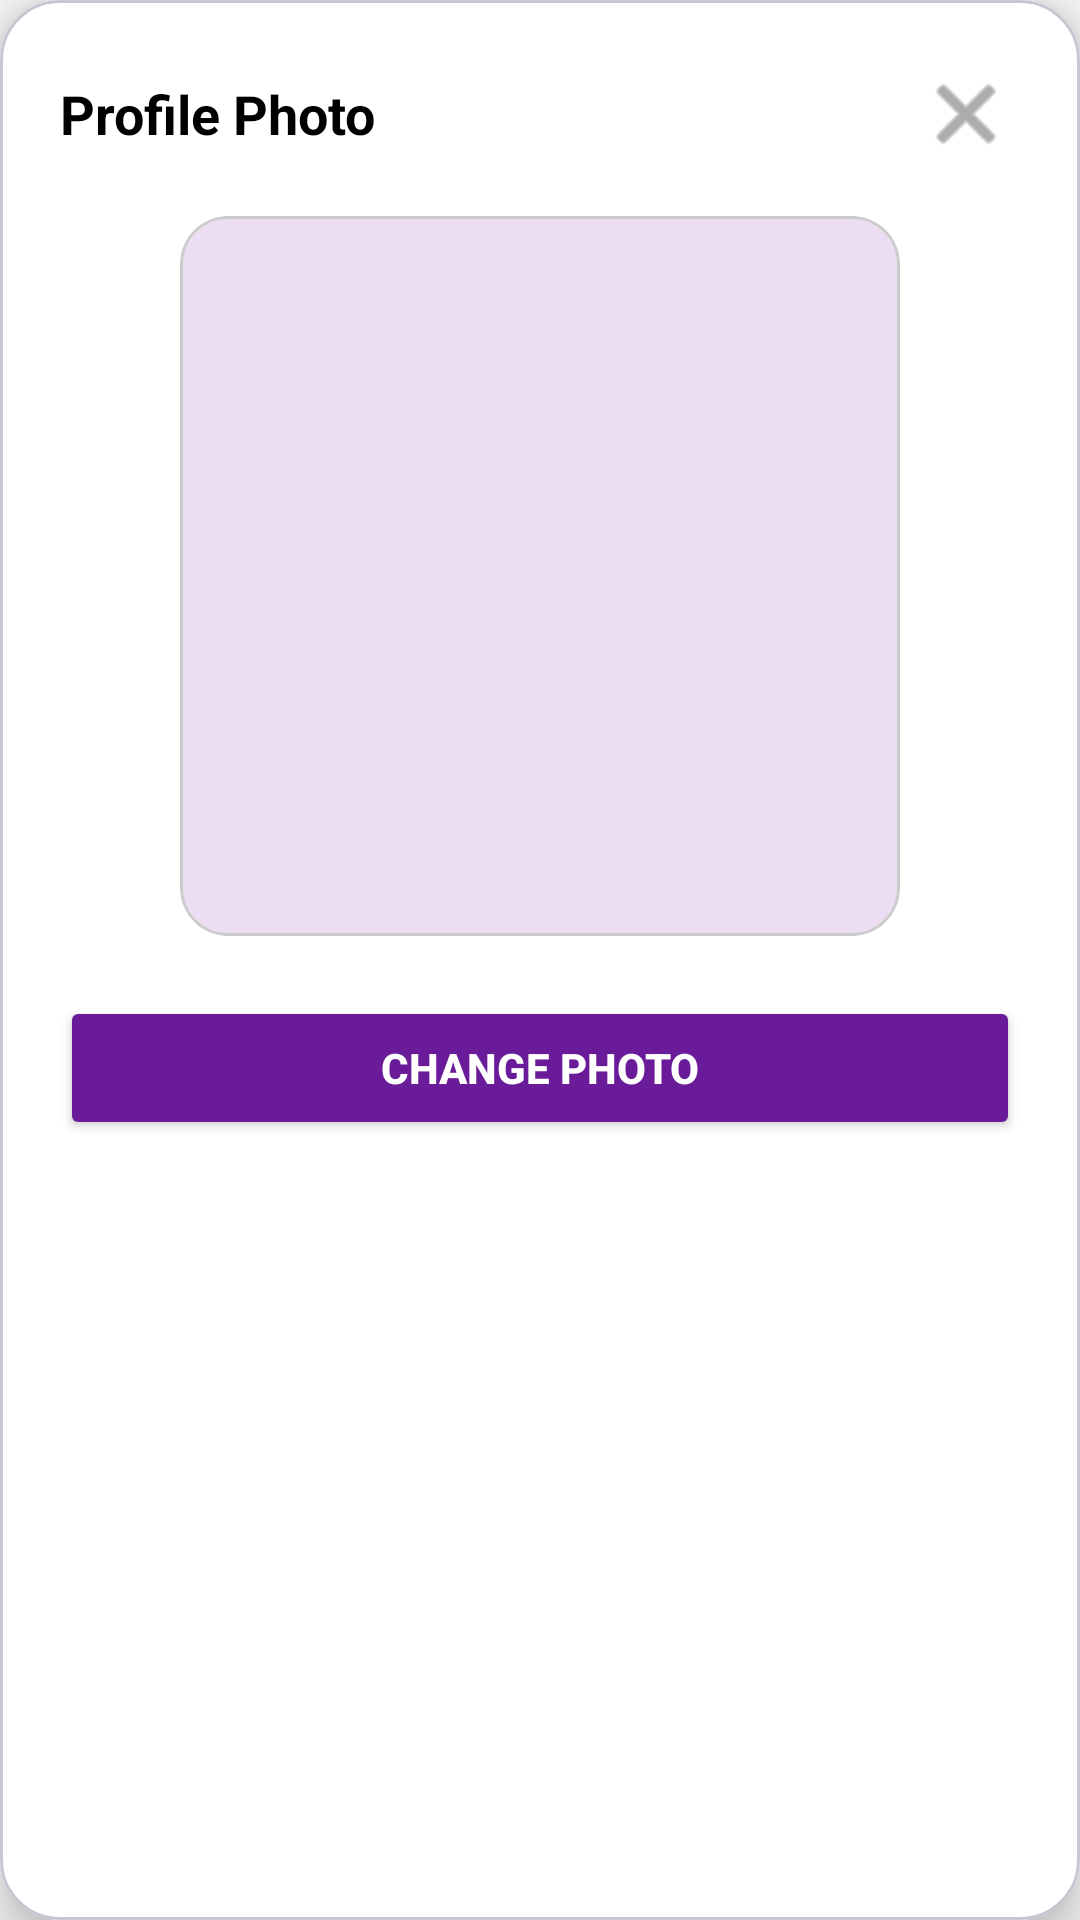

Icon bounding boxes for this 1080 x 1920 phone screenshot, format (x1, y1, x2, y2):
Close: (936, 84, 996, 144)
